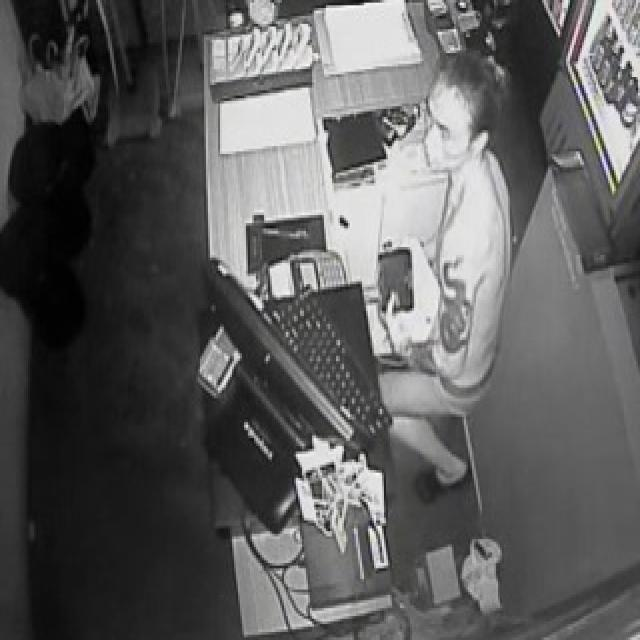thief: (403, 41, 506, 321)
